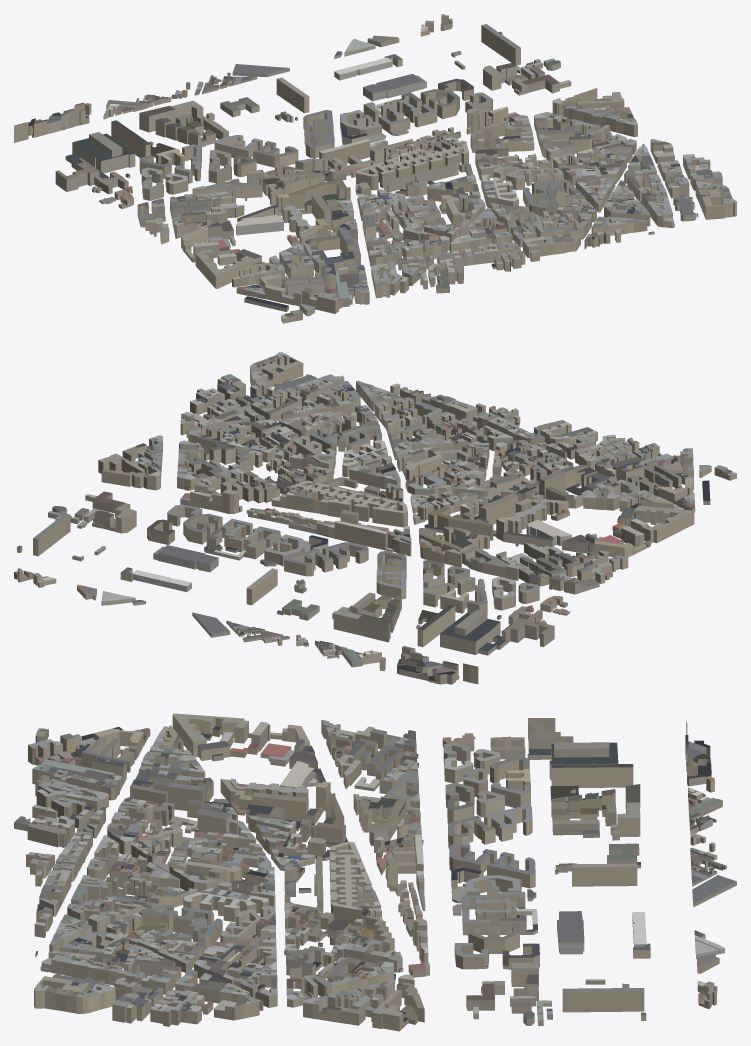
The picture shows the model from 3 angles, top to bottom: view 1: azimuth 30°, elevation 25°; view 2: azimuth 150°, elevation 25°; view 3: azimuth 270°, elevation 25°; orthographic projection. The views are drawn at different scales.
Parts seen in each view (by area): view 1: tuile; view 2: tuile; view 3: tuile.
Boxes of the visible parts, left/top/right/bottom form: tuile: left=14, top=14, right=736, bottom=323; tuile: left=14, top=352, right=736, bottom=684; tuile: left=14, top=713, right=736, bottom=1031.
Bounding box in the file's own units: 1057 × 52.94 × 1068.
